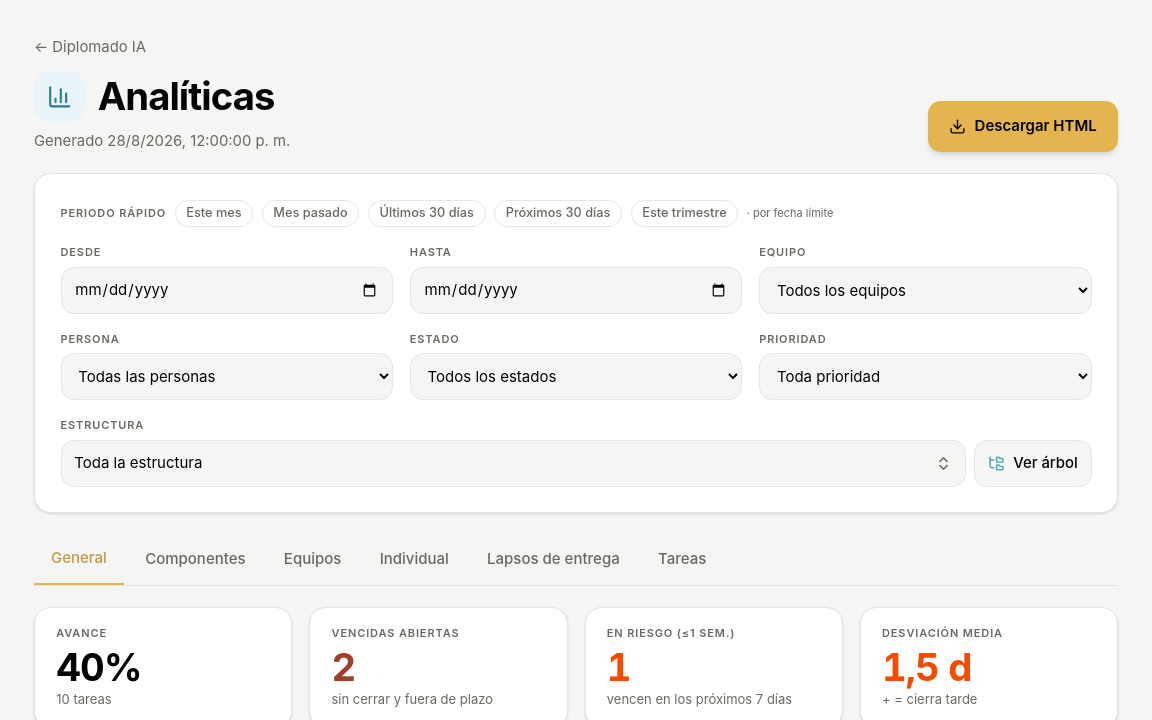
Test: ProjectReportPage (analítica) › la pestaña Componentes lista el árbol con hechas, iniciadas y avance
Click the tab "Componentes" at (195, 560), box [128,535,263,585]
(page scrolled)
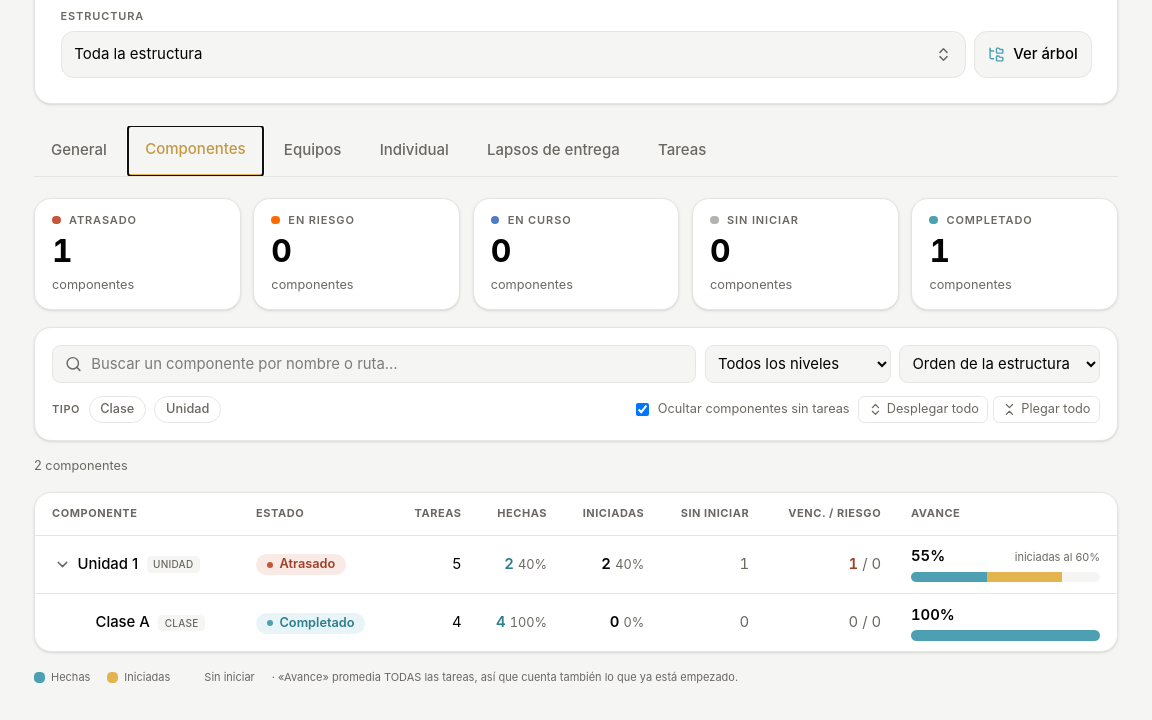
Check: the text "Unidad 1" is shown, box [78,555,138,573]
Check: the text "Clase A" is shown, box [96,613,150,631]
Check: the text "iniciadas al 60%" is shown, box [1015,550,1100,566]
Note: Plegar la rama esconde a sus hijos.
Click the button named "Plegar Unidad 1" at (63, 564), box [52,554,73,575]
(page scrolled)
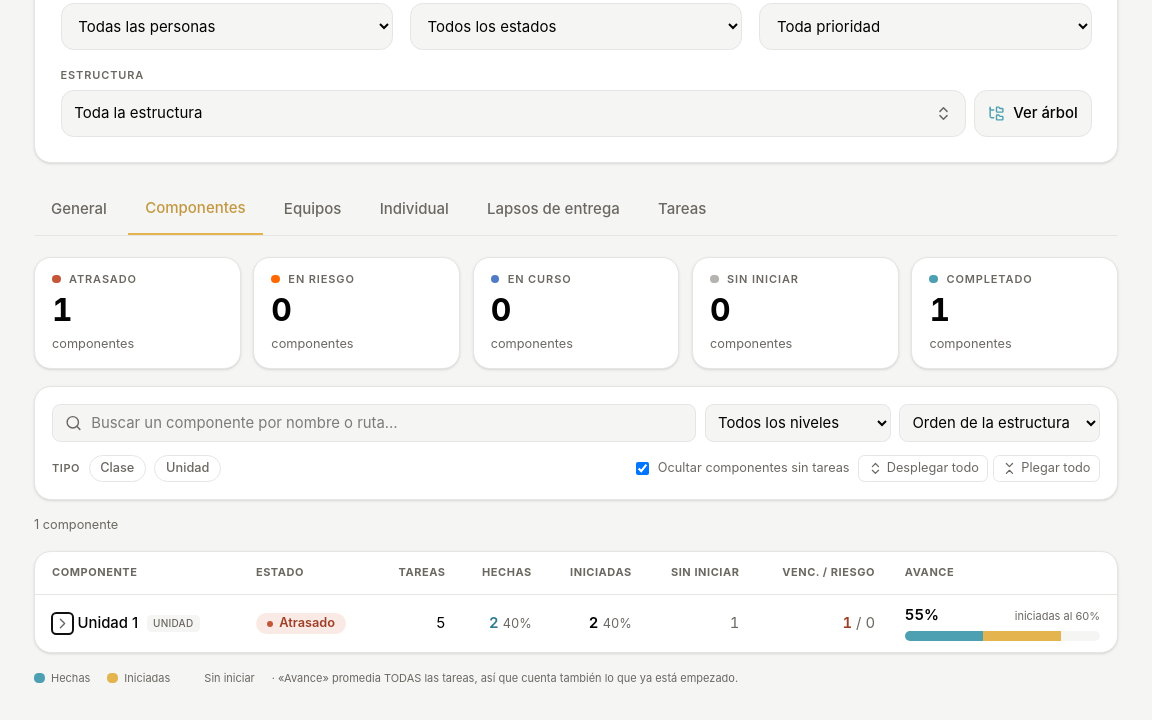
Check: the text "Clase A" is gone
